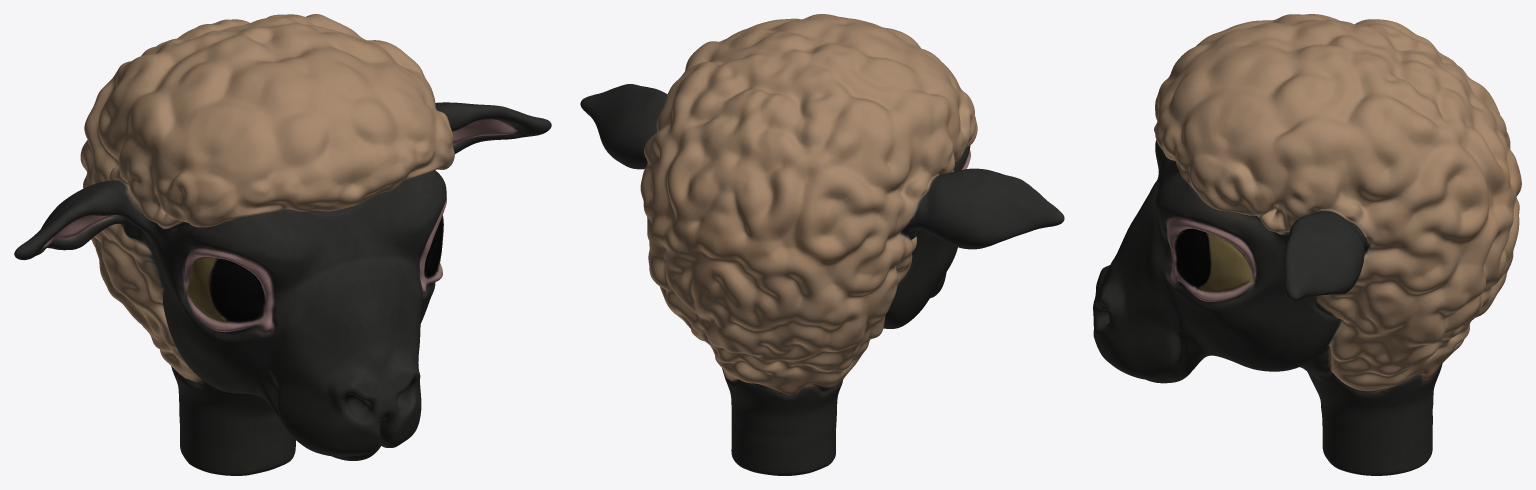
Rendered from Tete_Mouton.glb.
The picture shows the model from 3 angles, left to right: view 1: azimuth 30°, elevation 25°; view 2: azimuth 150°, elevation 25°; view 3: azimuth 270°, elevation 25°; orthographic projection. The views are drawn at different scales.
Visible parts, largest first — view 1: Tete_Mouton; view 2: Tete_Mouton; view 3: Tete_Mouton.
Boxes of the visible parts, bbox=[...] form: Tete_Mouton: bbox=[14, 14, 551, 475]; Tete_Mouton: bbox=[580, 14, 1064, 475]; Tete_Mouton: bbox=[1093, 14, 1521, 475].
Bounding box in the file's own units: 6.36 × 4.99 × 4.62.
